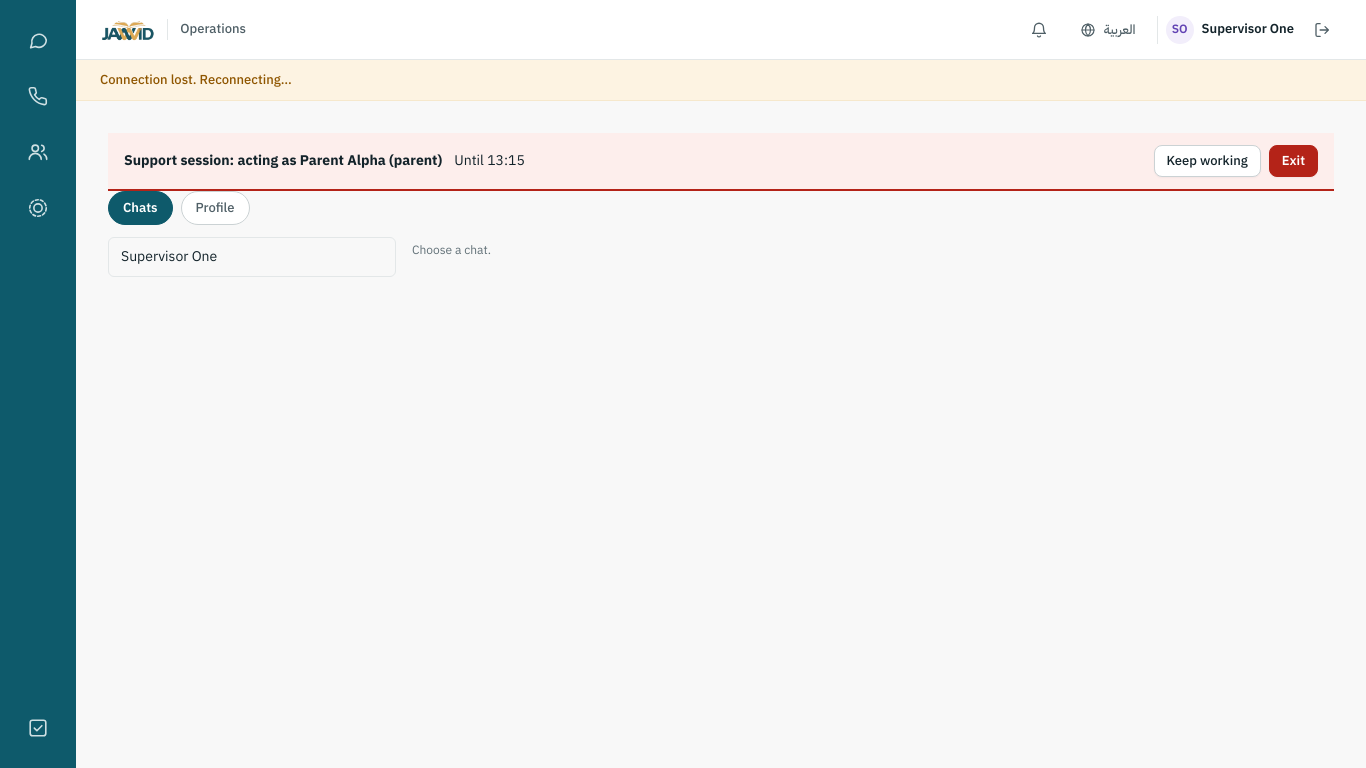
Test: PD-21: support sessions in Admin Web › a refusal from the server is said plainly
The width and height of the screenshot is (1366, 768).
Click the button "Supervisor One" at (169, 257), box [108,237,396,277]
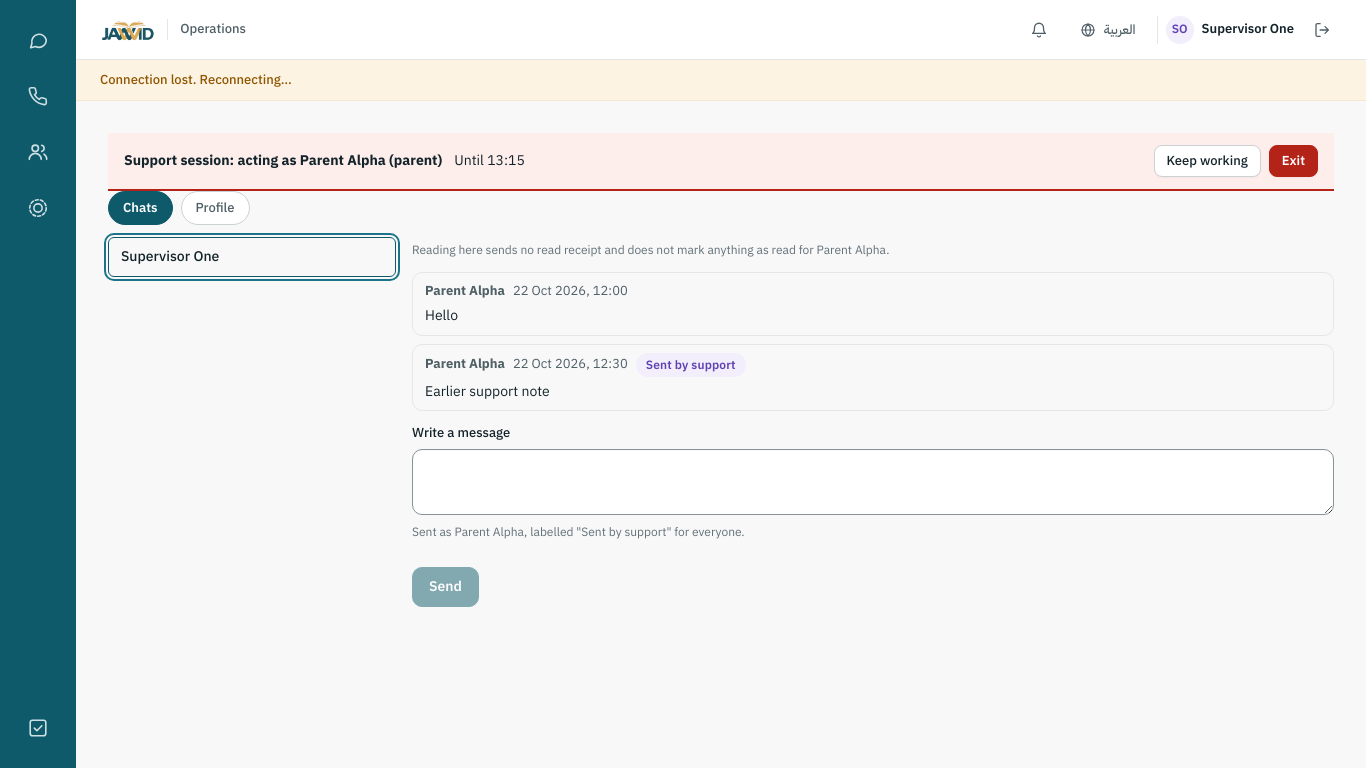
Type "x" into the text box labelled "Write a message" at (873, 482), box [412,449,1334,515]
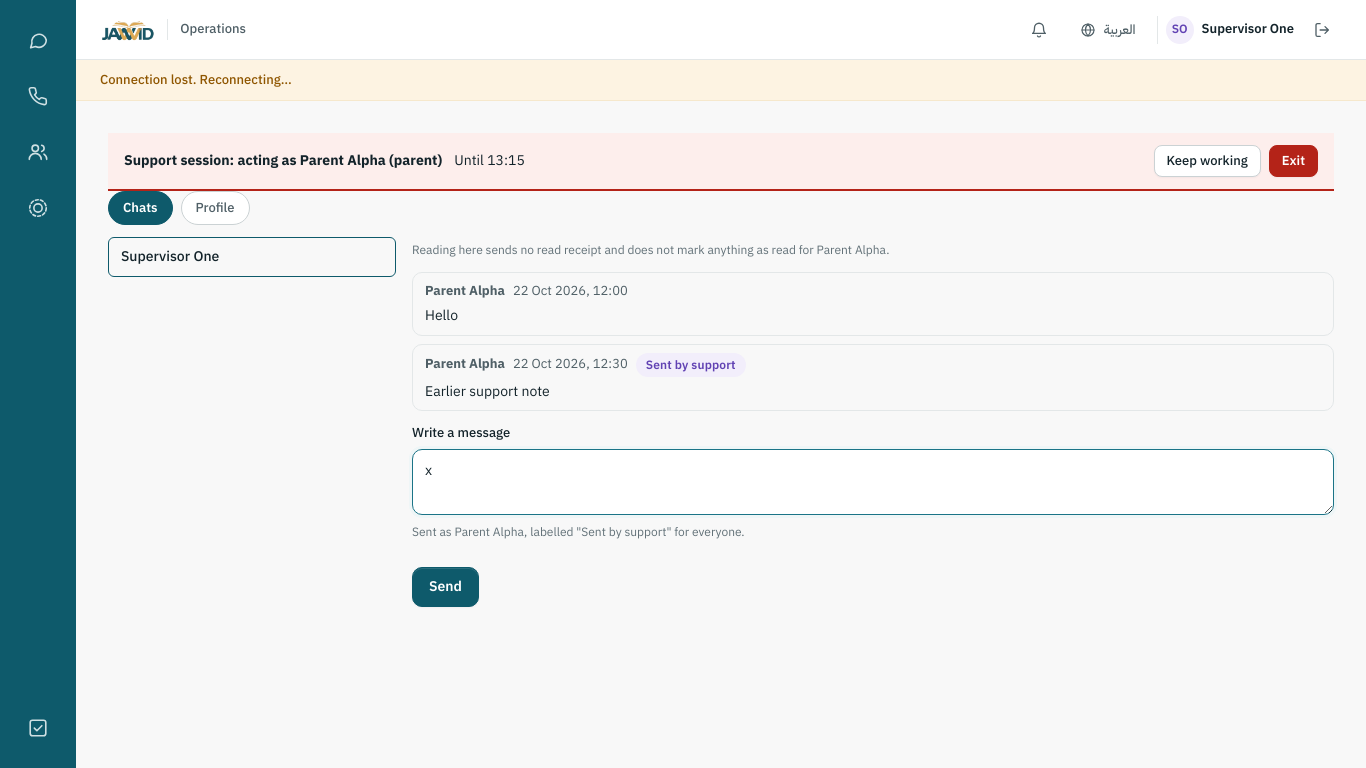
Click the button "Send" at (446, 587), box [412,567,479,607]
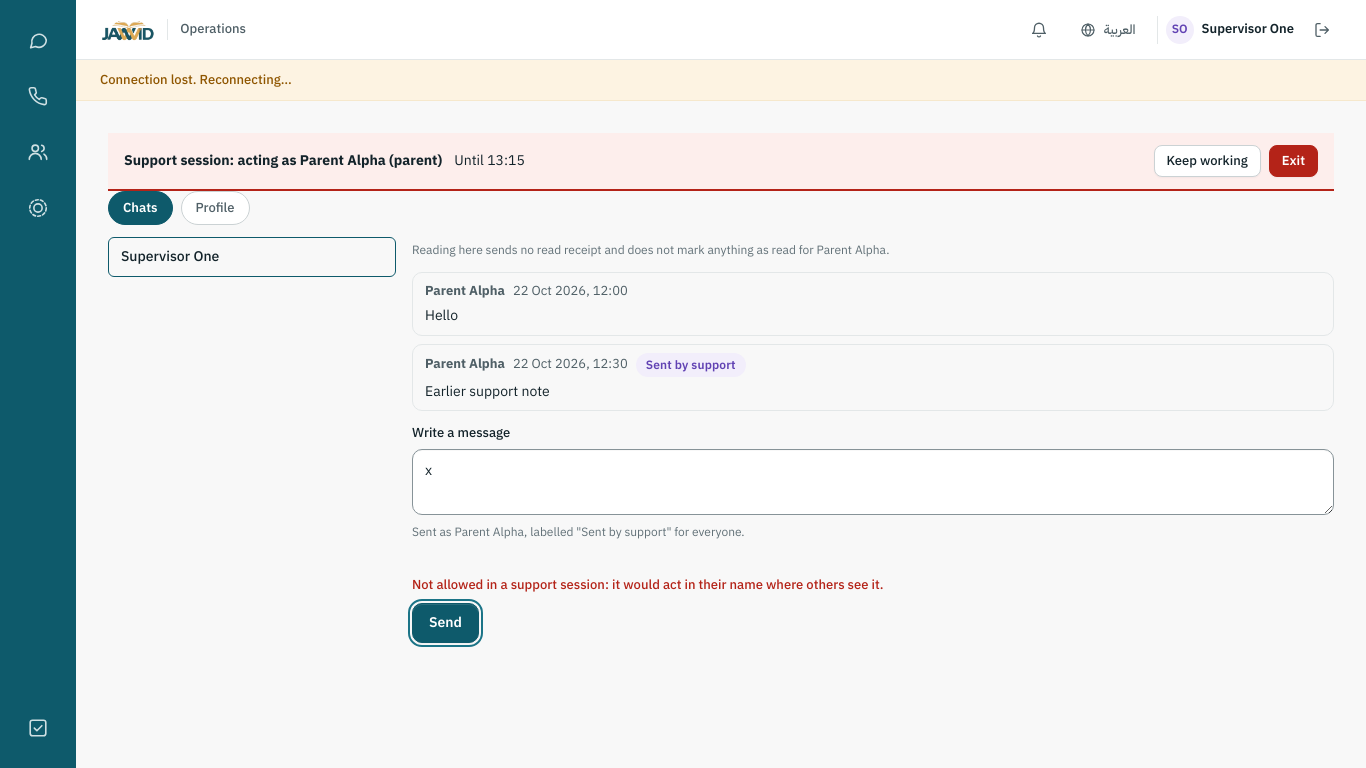
Check: the 3rd message shows "Not allowed in a support session", box [412,575,884,594]
